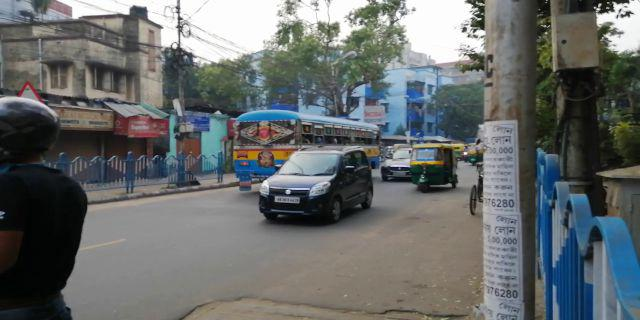Autorickshaw: (412, 146, 459, 189)
Bus: (223, 115, 382, 182)
Car: (261, 150, 375, 217)
